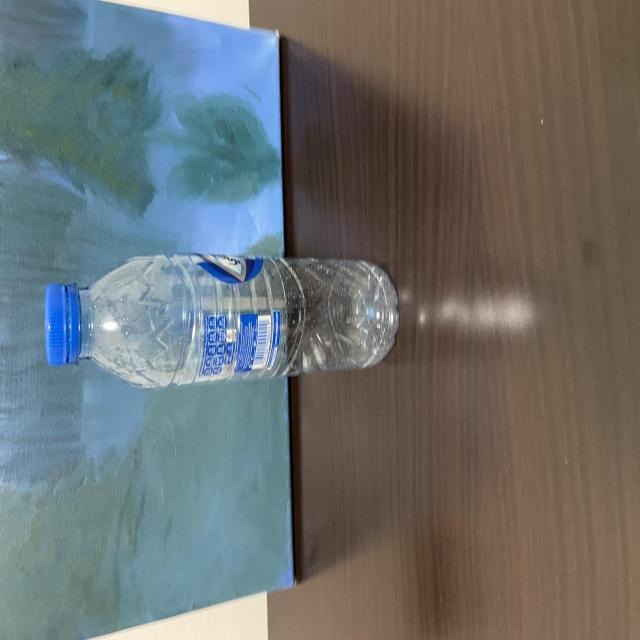plastic: (37, 251, 404, 386)
